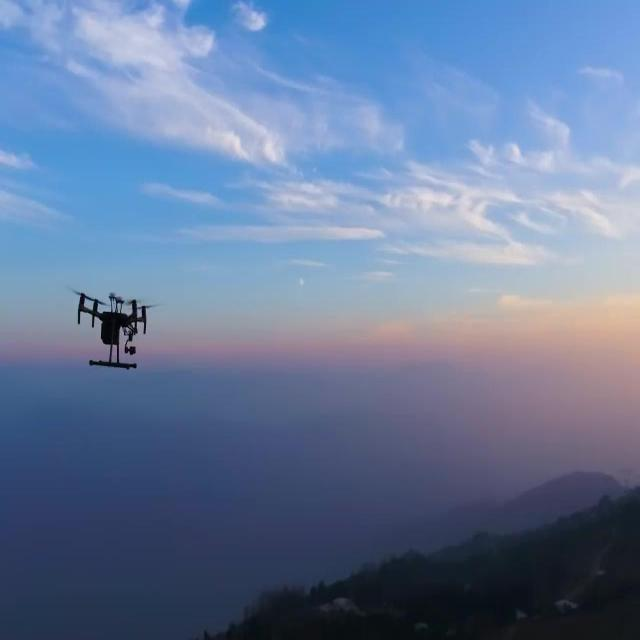drone: (68, 286, 161, 372)
